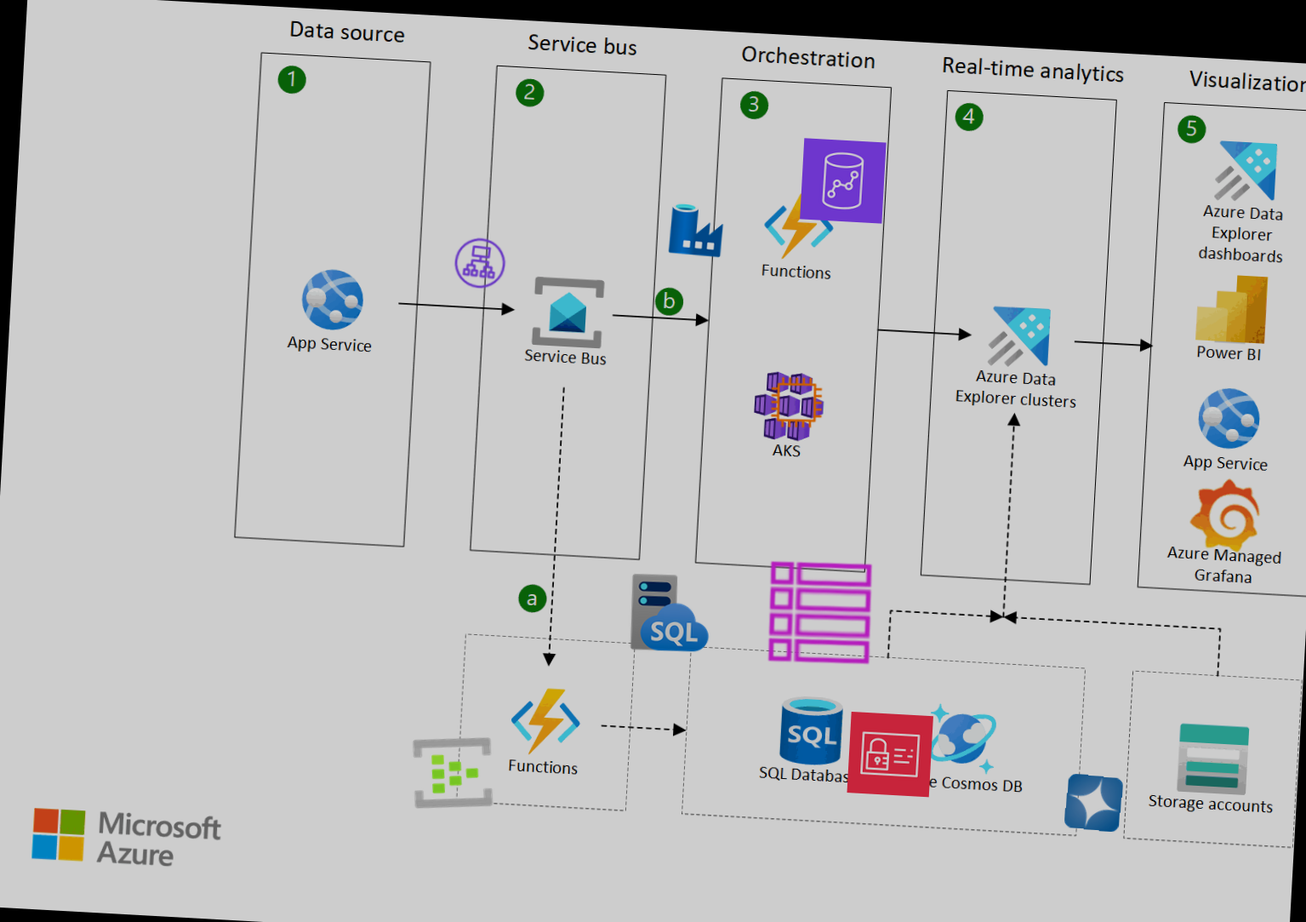aws_amazon_redshift: (799, 137, 887, 224)
aws_dynamodb_table: (761, 553, 879, 671)
aws_ec2_instance: (766, 372, 827, 432)
aws_elastic_load_balancing_application_load_balancer: (449, 232, 510, 293)
aws_identity_and_access_management: (846, 710, 934, 798)
azure_data_factories: (665, 198, 727, 260)
azure_event_hubs: (406, 726, 499, 818)
azure_openai: (1063, 772, 1124, 833)
azure_sql_managed_instance: (625, 568, 715, 657)
